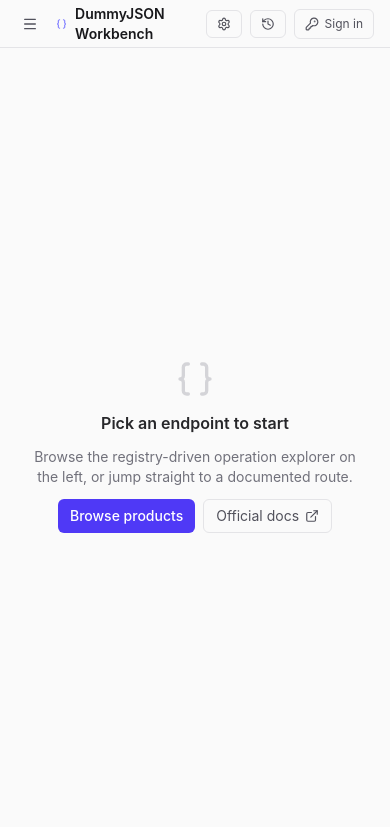
Test: WorkbenchShell › opens the mobile operations drawer and selects an operation
Click the button named "Toggle operations list".
click(30, 24)  # box [16,10,44,38]
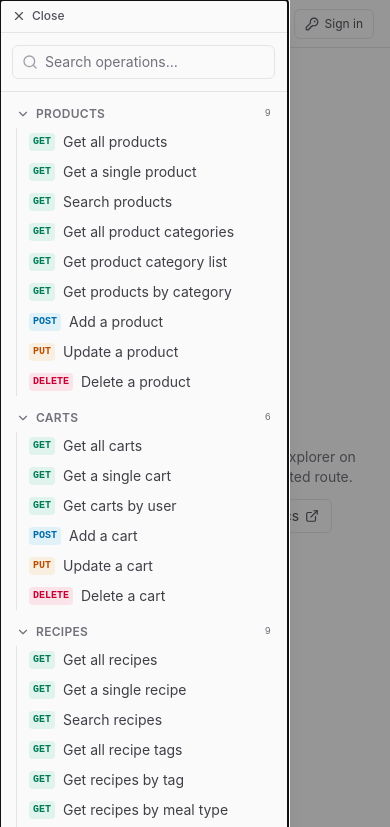
Click the button "GET Get all products".
click(152, 142)  # box [25,128,279,156]
(page scrolled)
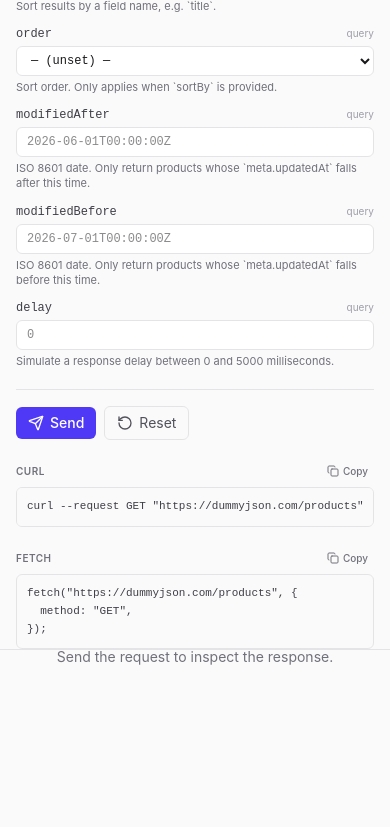
Now the button "Operations" is gone
Now the button "Send" is shown, box [16,407,96,439]
